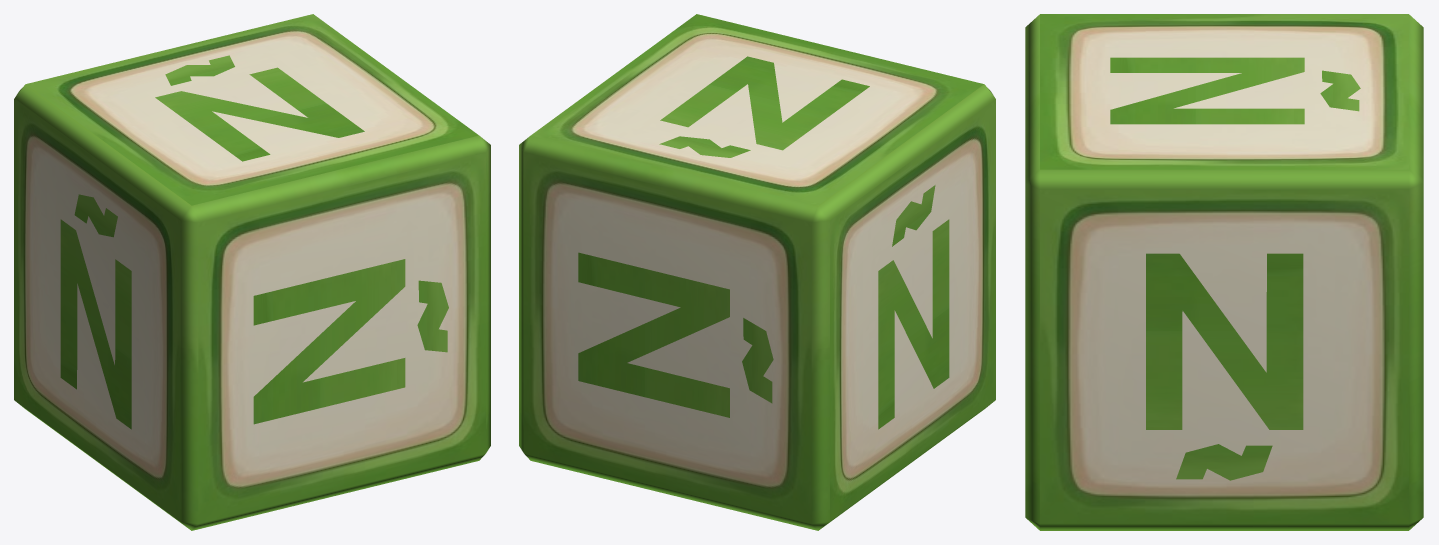
The model's file is CubeNh.glb.
The picture shows the model from 3 angles, left to right: view 1: azimuth 30°, elevation 25°; view 2: azimuth 150°, elevation 25°; view 3: azimuth 270°, elevation 25°; orthographic projection. The views are drawn at different scales.
Parts seen in each view (by area): view 1: CubeNh; view 2: CubeNh; view 3: CubeNh.
Boxes of the visible parts, bbox=[...] form: CubeNh: bbox=[14, 14, 490, 530]; CubeNh: bbox=[519, 14, 995, 530]; CubeNh: bbox=[1025, 14, 1423, 530].
Size of what is drawn, in the model's own units: 0.513 by 0.513 by 0.513.
1 material, 1 textured.
